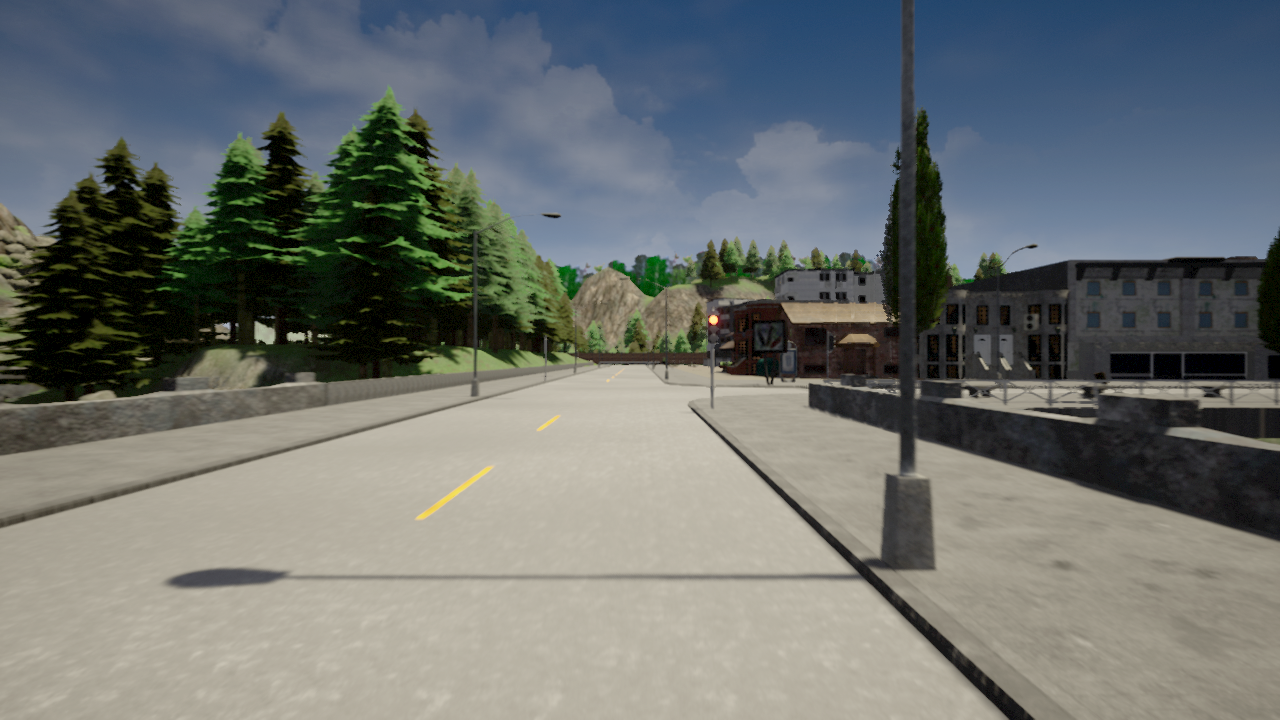red: (707, 313, 719, 344)
